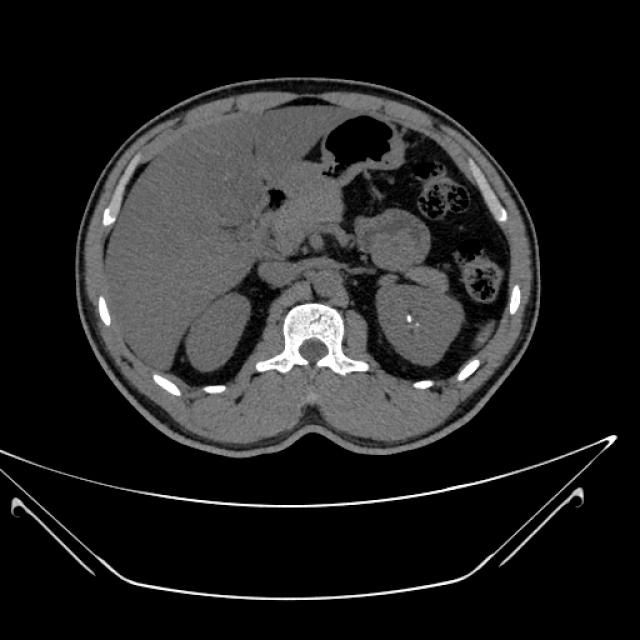kidney: (378, 284, 461, 363), (194, 293, 248, 374)
stone: (406, 314, 412, 323), (416, 321, 420, 326)
